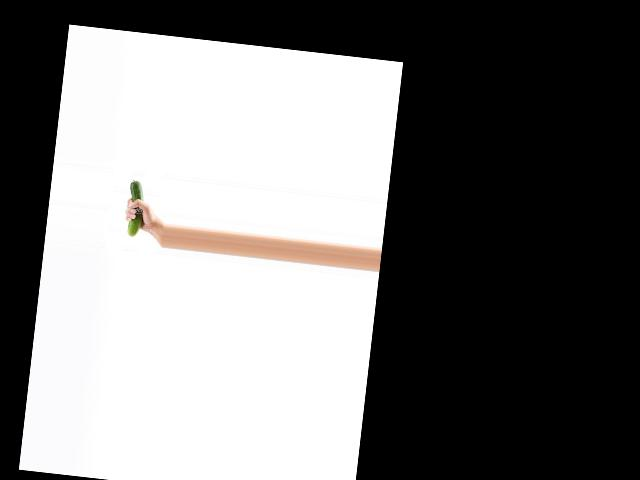cucumber: (123, 180, 146, 237)
